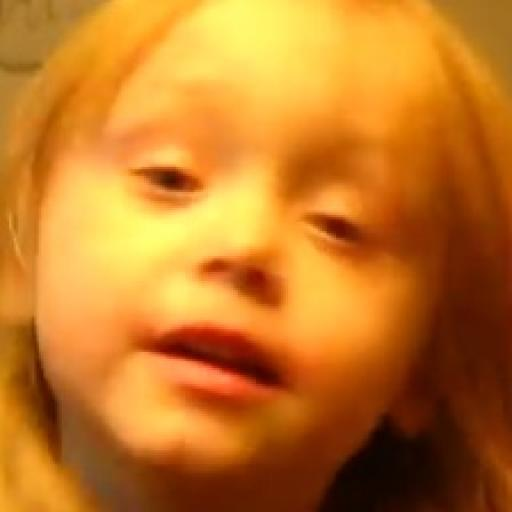Autism: (60, 35, 418, 481)
